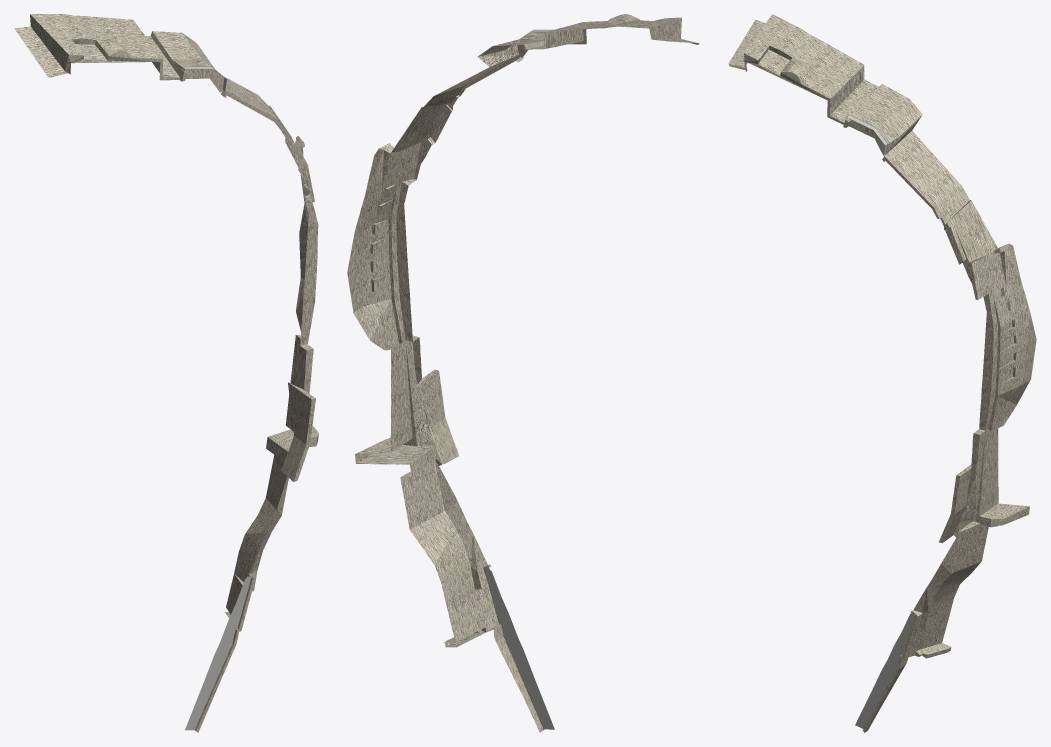
Rendered from Toompeamyyr_c-origo.obj.
The picture shows the model from 3 angles, left to right: view 1: azimuth 30°, elevation 25°; view 2: azimuth 150°, elevation 25°; view 3: azimuth 330°, elevation 25°; orthographic projection. The views are drawn at different scales.
Parts seen in each view (by area): view 1: Toompeamyyr_c; view 2: Toompeamyyr_c; view 3: Toompeamyyr_c.
Part boxes in pixels (<box>): Toompeamyyr_c: <box>14,14,318,732</box>; Toompeamyyr_c: <box>347,14,699,732</box>; Toompeamyyr_c: <box>728,14,1036,732</box>.
Size of the model in its own units: 67.94 by 160 by 20.1.
